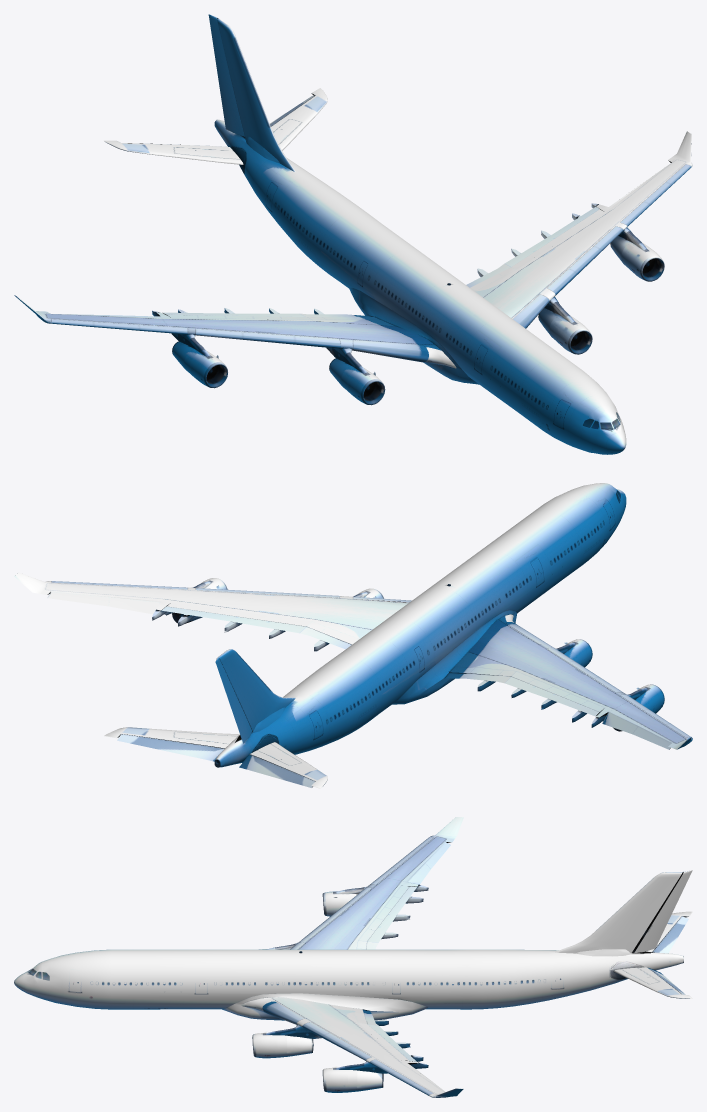
Rendered from aircraft.glb.
3 renders of one model, top to bottom at view 1: azimuth 30°, elevation 25°; view 2: azimuth 150°, elevation 25°; view 3: azimuth 270°, elevation 25°, orthographic. The views are drawn at different scales.
Visible parts, largest first — view 1: aircraft; view 2: aircraft; view 3: aircraft.
Part boxes in pixels (x1,y1,x2,y2): aircraft: [14, 14, 692, 454]; aircraft: [14, 483, 692, 788]; aircraft: [14, 817, 692, 1097].
Size of the model in its own units: 60.29 by 14.88 by 63.69.
1 material, 1 textured.
